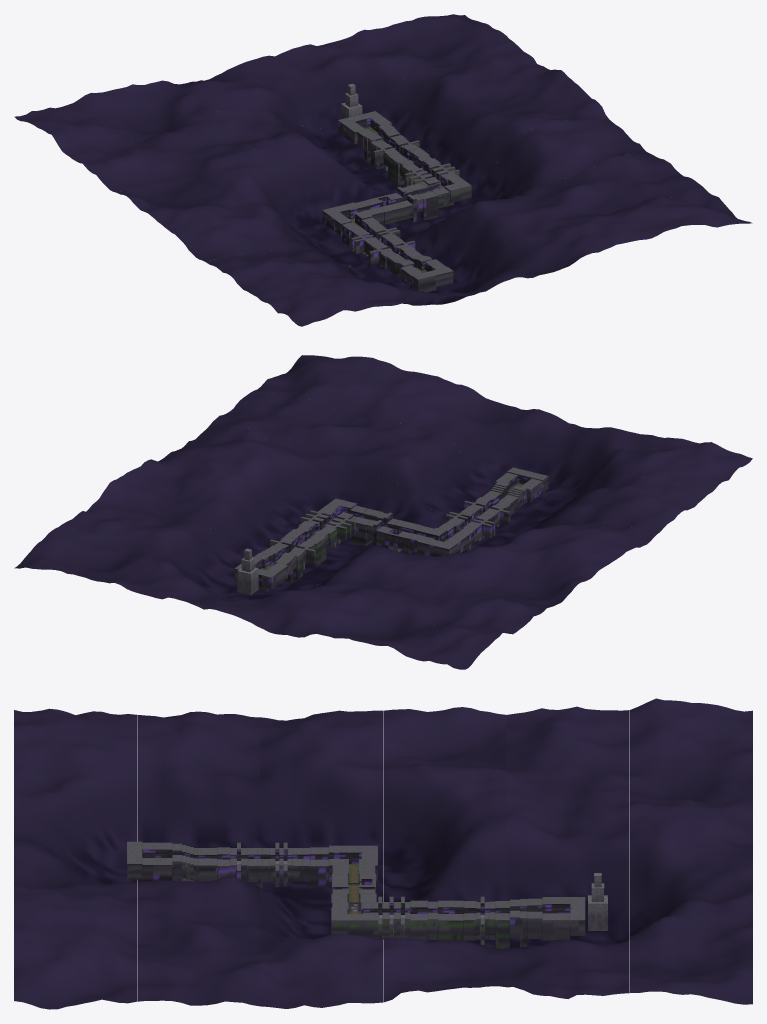
File: crypt_corridors_terrain.glb
3 views of the same model, one above another, from view 1: azimuth 30°, elevation 25°; view 2: azimuth 150°, elevation 25°; view 3: azimuth 270°, elevation 25° (orthographic). The views are drawn at different scales.
Visible parts, largest first — view 1: backdrop_5, backdrop_3, backdrop_4, backdrop_1, backdrop_2, backdrop_0, terrain_G, terrain_E, terrain_F, terrain_J, terrain_C, terrain_I (+4 smaller); view 2: backdrop_0, backdrop_1, backdrop_4, backdrop_5, backdrop_3, backdrop_2, terrain_E, terrain_G, terrain_J, terrain_C, terrain_I, terrain_F (+4 smaller); view 3: backdrop_5, backdrop_0, backdrop_1, backdrop_4, backdrop_3, backdrop_2, terrain_G, terrain_I, terrain_J, terrain_C, terrain_B, terrain_H (+4 smaller).
Part boxes in pixels (bbox=[...]): backdrop_5: bbox=[14, 14, 512, 150]; backdrop_3: bbox=[111, 70, 608, 228]; backdrop_4: bbox=[62, 41, 560, 191]; backdrop_1: bbox=[206, 153, 704, 295]; backdrop_2: bbox=[158, 118, 656, 266]; backdrop_0: bbox=[254, 188, 752, 326]; terrain_G: bbox=[402, 158, 471, 207]; terrain_E: bbox=[322, 194, 406, 231]; terrain_F: bbox=[390, 181, 449, 222]; terrain_J: bbox=[338, 83, 391, 149]; terrain_C: bbox=[351, 225, 415, 266]; terrain_I: bbox=[357, 124, 419, 170]; backdrop_0: bbox=[255, 355, 752, 502]; backdrop_1: bbox=[206, 390, 704, 538]; backdrop_4: bbox=[62, 483, 559, 633]; backdrop_5: bbox=[14, 524, 512, 669]; backdrop_3: bbox=[110, 459, 608, 604]; backdrop_2: bbox=[158, 426, 656, 564]; terrain_E: bbox=[383, 520, 461, 556]; terrain_G: bbox=[298, 498, 356, 547]; terrain_J: bbox=[234, 548, 288, 595]; terrain_C: bbox=[446, 500, 510, 540]; terrain_I: bbox=[254, 539, 315, 583]; terrain_F: bbox=[349, 505, 399, 546]; backdrop_5: bbox=[630, 698, 752, 1004]; backdrop_0: bbox=[14, 708, 136, 1009]; backdrop_1: bbox=[137, 711, 260, 1006]; backdrop_4: bbox=[506, 706, 629, 998]; backdrop_3: bbox=[383, 707, 506, 1002]; backdrop_2: bbox=[260, 710, 383, 1008]; terrain_G: bbox=[331, 896, 427, 940]; terrain_I: bbox=[476, 896, 542, 948]; terrain_J: bbox=[542, 873, 607, 940]; terrain_C: bbox=[230, 842, 302, 888]; terrain_B: bbox=[172, 843, 230, 881]; terrain_H: bbox=[428, 900, 476, 941].
Bounding box in the file's own units: 532 × 67.14 × 588.
